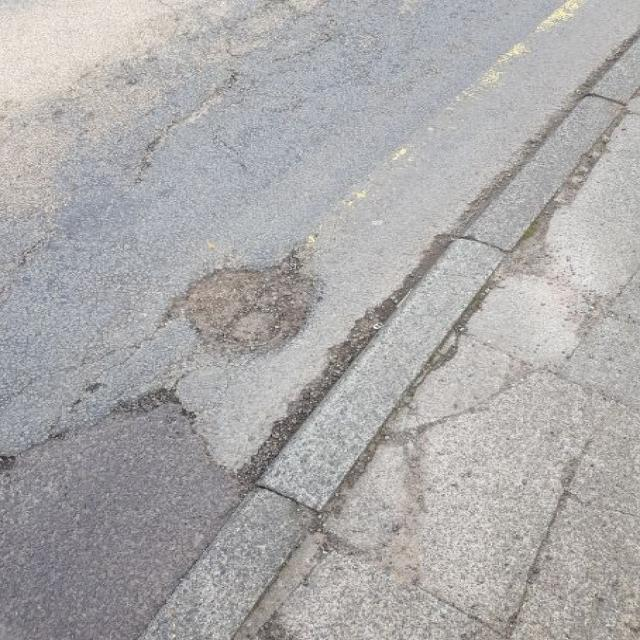Pothole: (157, 244, 331, 358)
